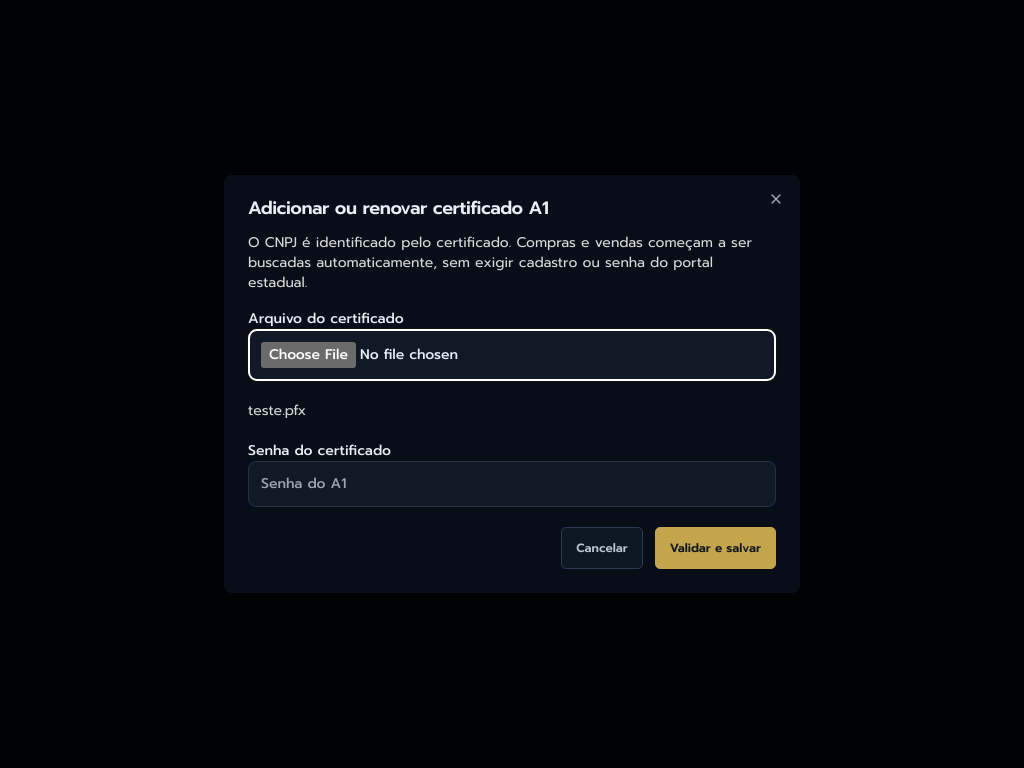
Test case: extrator: importação e conta › exibe erro, preserva arquivo e permite corrigir senha
Earlier steps of the test are not shown.
Later steps or results of the test are not shown.
Type "bad" into the password field labelled "Senha do certificado" at (512, 484), box [248,461,776,507]
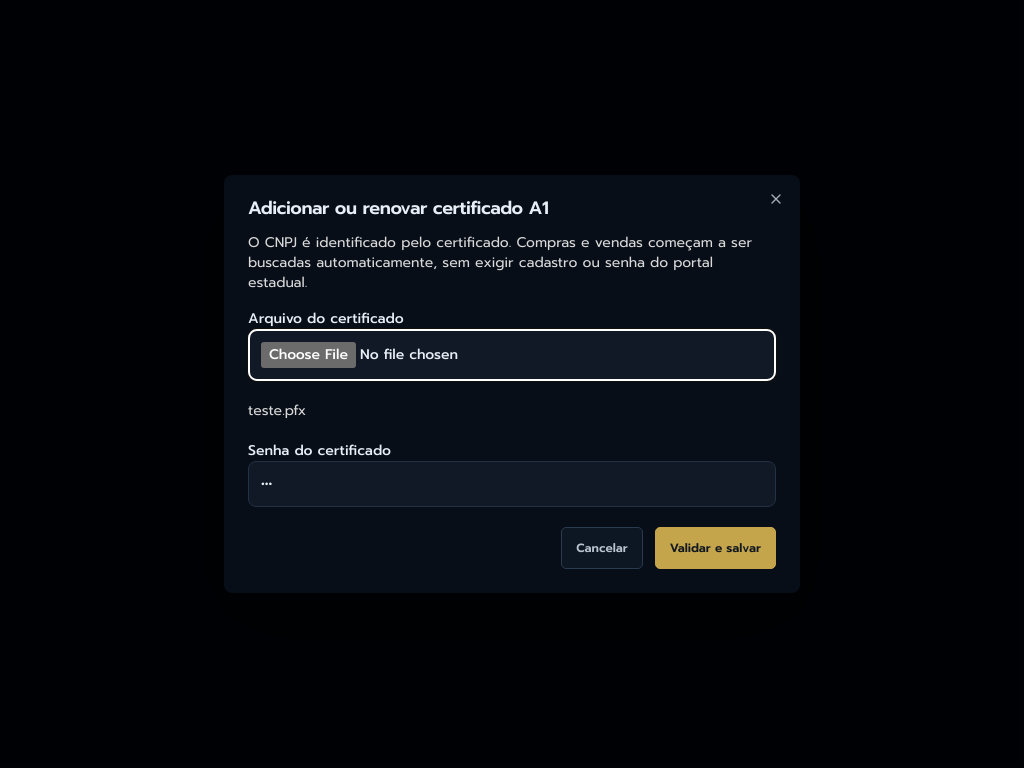
Click the button "Validar e salvar" at (715, 548), box [655,527,776,569]
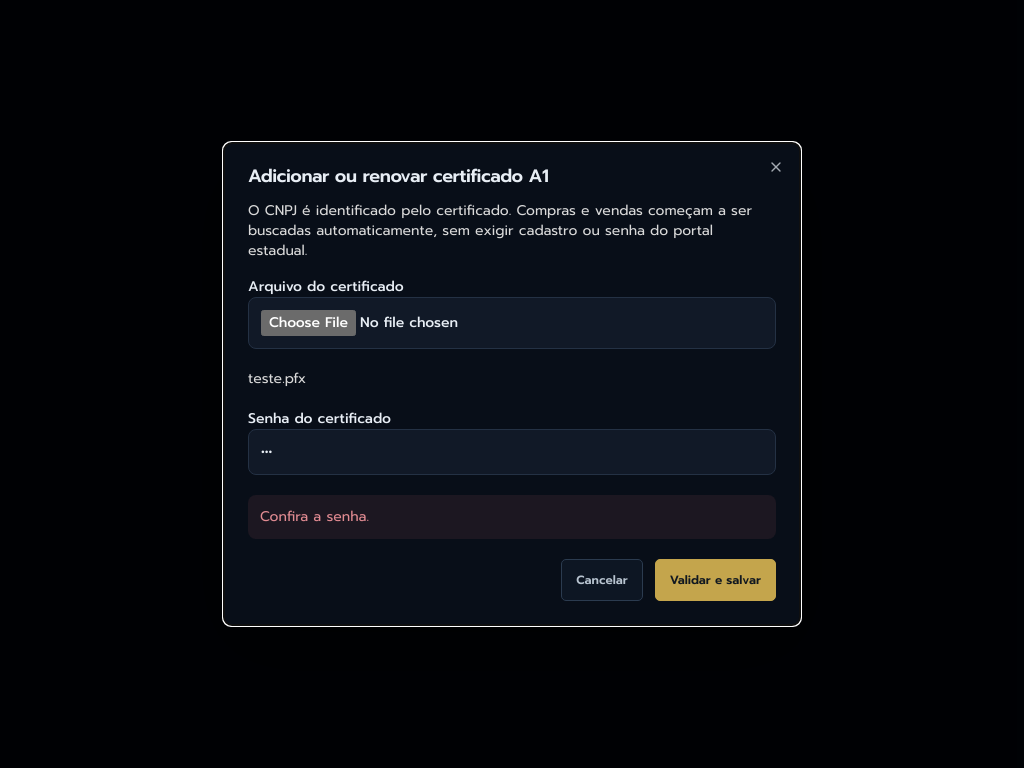
Expected: the message shows "Confira a senha", [260,506,369,527]
